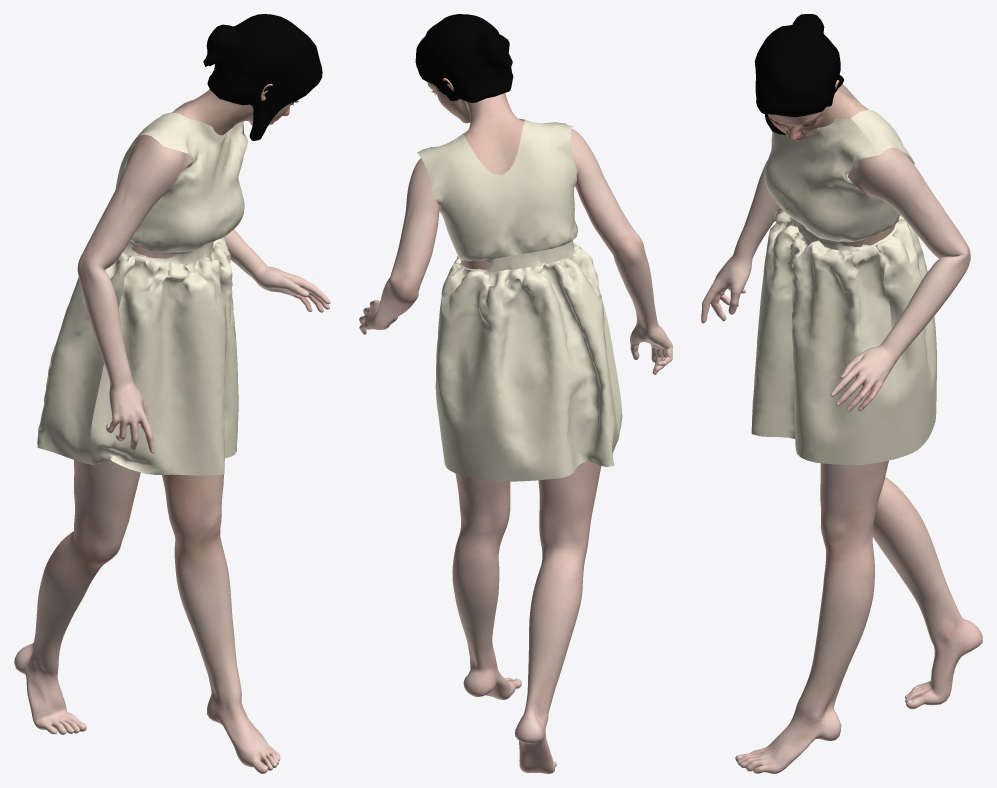
The model's file is random.obj.
3 views of the same model, side by side, from view 1: azimuth 30°, elevation 25°; view 2: azimuth 150°, elevation 25°; view 3: azimuth 270°, elevation 25° (orthographic). The views are drawn at different scales.
Size of the model in its own units: 695 by 1739 by 590.
